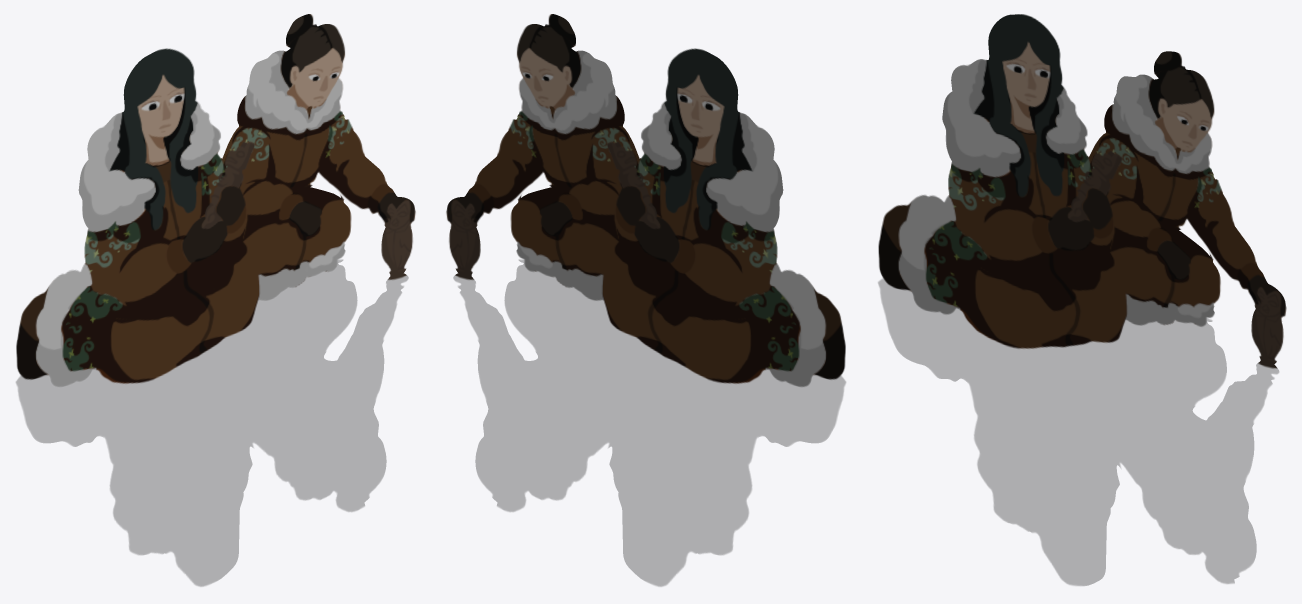
The model's file is INT_Women.glb.
3 views of the same model, side by side, from view 1: azimuth 30°, elevation 25°; view 2: azimuth 150°, elevation 25°; view 3: azimuth 330°, elevation 25° (orthographic). The views are drawn at different scales.
Visible parts, largest first — view 1: INT_Women; view 2: INT_Women; view 3: INT_Women.
Part boxes in pixels (x1=…): INT_Women: x1=16, y1=14, x2=415, y2=586; INT_Women: x1=446, y1=14, x2=845, y2=586; INT_Women: x1=878, y1=14, x2=1286, y2=585.
Size of the model in its own units: 0.7402 by 0.9651 by 3.25e-07.
1 material, 1 textured.
